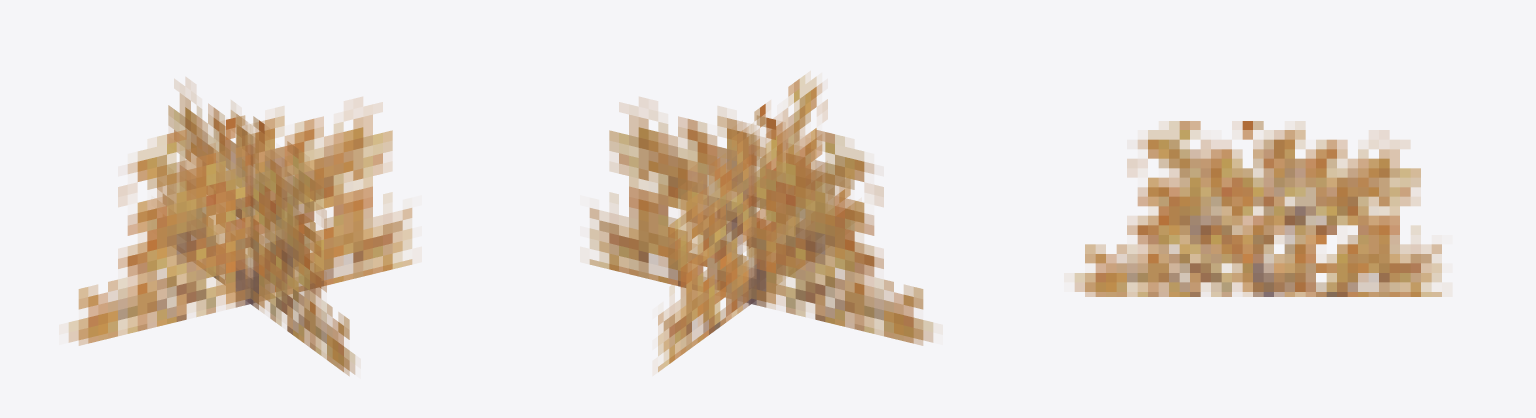
File: tree-small.glb
3 renders of one model, left to right at view 1: azimuth 30°, elevation 25°; view 2: azimuth 150°, elevation 25°; view 3: azimuth 270°, elevation 25°, orthographic. The views are drawn at different scales.
Visible parts, largest first — view 1: tree-small; view 2: tree-small; view 3: tree-small.
Boxes of the visible parts, x1=… form: tree-small: x1=68, y1=77, x2=412, y2=375; tree-small: x1=589, y1=71, x2=933, y2=371; tree-small: x1=1074, y1=121, x2=1441, y2=296.
Size of the model in its own units: 0.78 by 0.3 by 0.78.
Materials: 1 (1 with a texture image).
